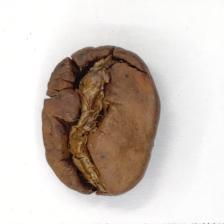NG: (39, 49, 116, 198)
